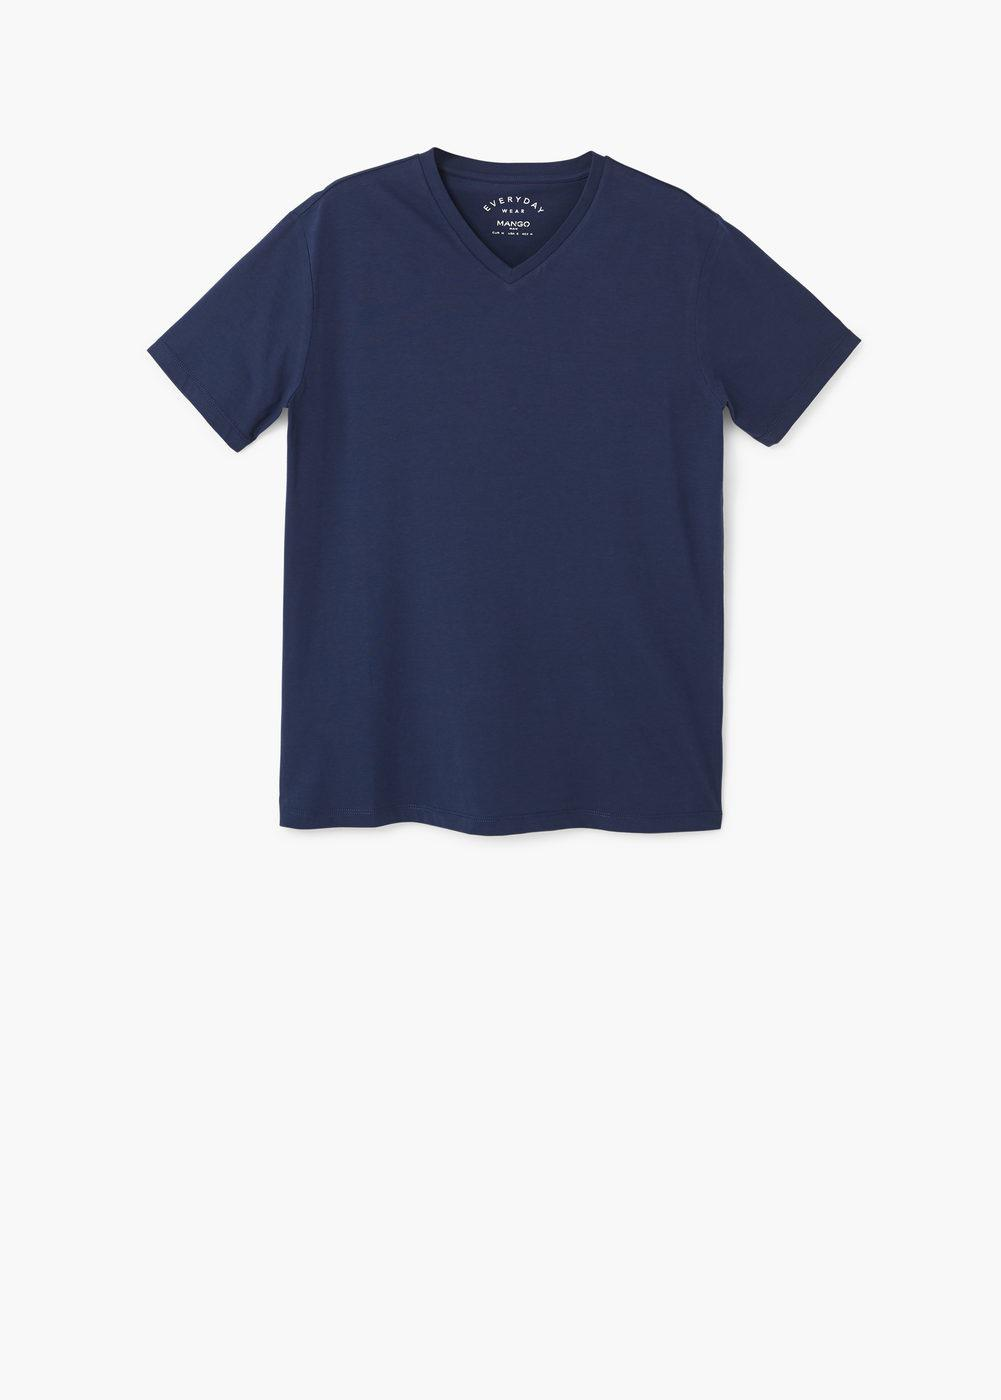teeshirt: (95, 123, 955, 906)
